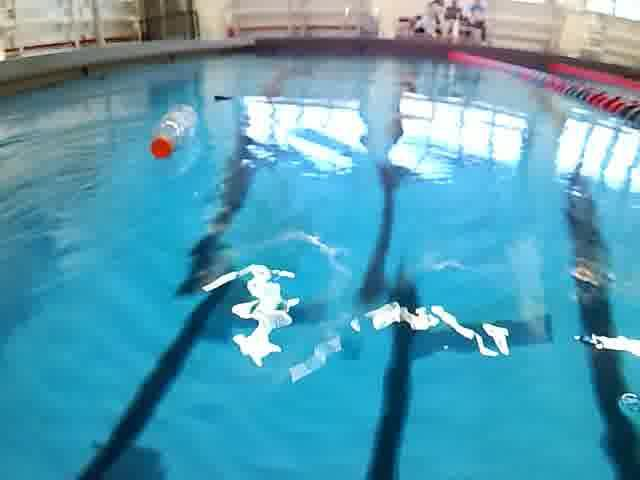Bottle: (148, 103, 200, 163)
